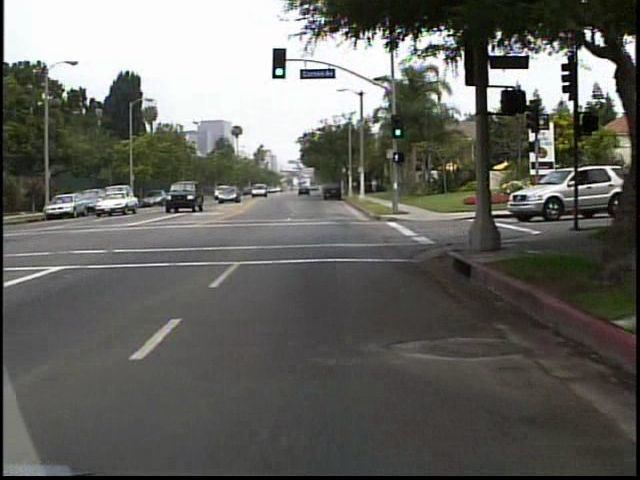person: (362, 175, 371, 198), (371, 175, 380, 195)
